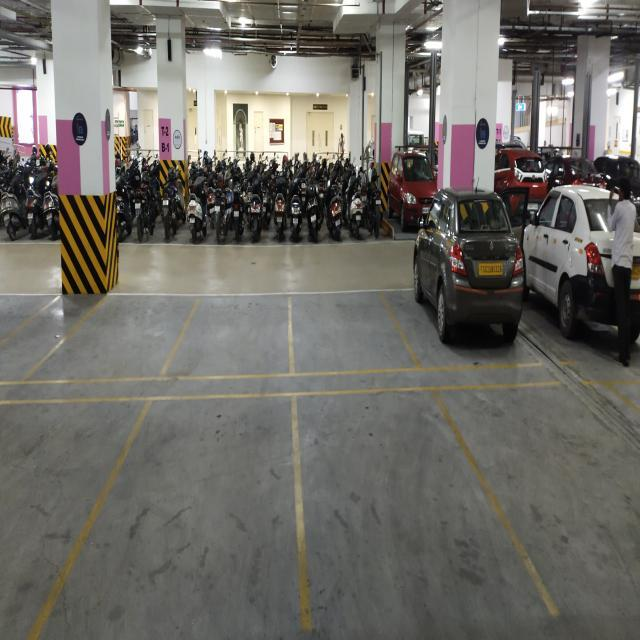free: (289, 381, 561, 628), (30, 402, 308, 640), (437, 375, 640, 640), (7, 400, 98, 595), (189, 298, 286, 384), (86, 290, 158, 390), (289, 304, 396, 370)
